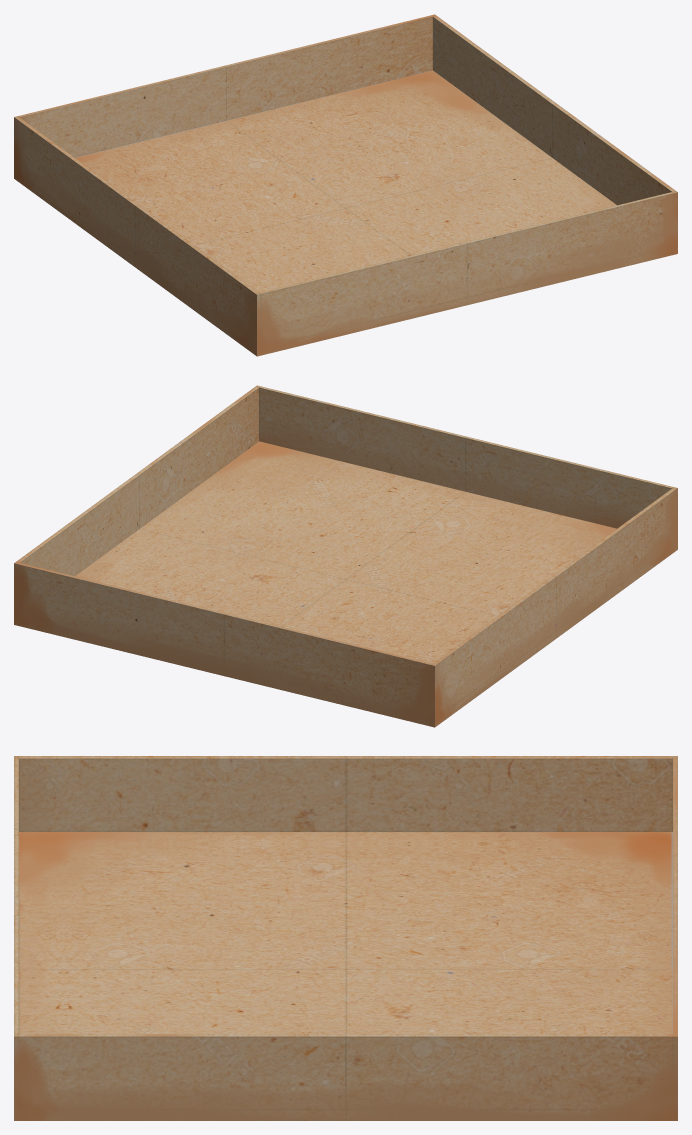
The model's file is Caja.fbx.
3 views of the same model, one above another, from view 1: azimuth 30°, elevation 25°; view 2: azimuth 150°, elevation 25°; view 3: azimuth 270°, elevation 25° (orthographic). The views are drawn at different scales.
Visible parts, largest first — view 1: Caja1; view 2: Caja1; view 3: Caja1.
Boxes of the visible parts, x1,y1,x2,y2 form: Caja1: (14,14,677,356); Caja1: (14,385,677,727); Caja1: (14,756,677,1120).
Size of the model in its own units: 32.44 by 4.54 by 32.44.
Materials: 1 (1 with a texture image).
